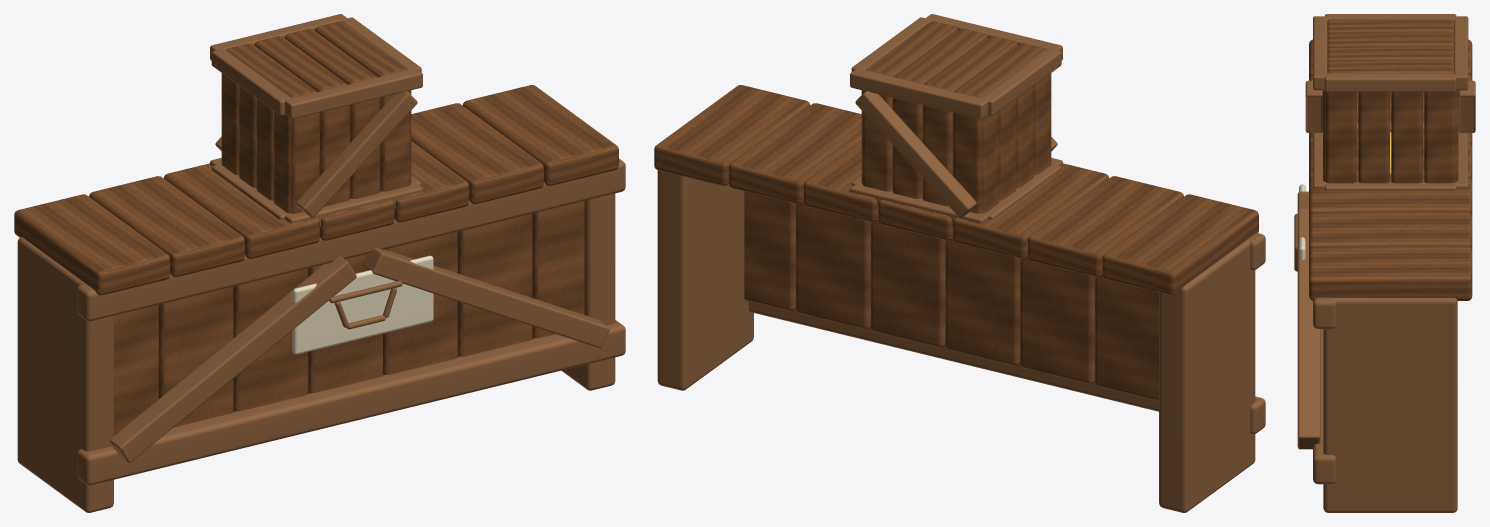
File: market-sale-props.glb
3 views of the same model, side by side, from view 1: azimuth 30°, elevation 25°; view 2: azimuth 150°, elevation 25°; view 3: azimuth 270°, elevation 25° (orthographic). The views are drawn at different scales.
Visible parts, largest first — view 1: sale-counter-post, sale-counter-rail.001, sale-counter-rail, sale-counter-plank-0, sale-counter-brace-a, sale-counter-plank-1, sale-counter-plank-6, sale-counter-plank-5, sale-front-plank-5, sale-counter-brace-b, sale-front-plank-1, sale-linen-sign (+28 smaller); view 2: sale-counter-post, sale-counter-post.001, sale-counter-plank-0, sale-front-plank-3, sale-front-plank-4, sale-front-plank-2, sale-front-plank-5, sale-counter-plank-6, sale-counter-plank-1, sale-counter-plank-5, sale-front-plank-1, sale-front-plank-6 (+23 smaller); view 3: sale-counter-post.001, sale-counter-plank-6, sale-counter-plank-5, sale-counter-brace-b, sale-counter-plank-4, sale-crate-side.007, sale-crate-side.003, sale-crate-side.005, sale-crate-side.001, sale-crate-edge.007, sale-crate-lid, sale-crate-lid.001 (+17 smaller).
Part boxes in pixels (x1,y1,x2,y2): sale-counter-post: (17,237,113,512); sale-counter-rail.001: (77,320,625,485); sale-counter-rail: (77,158,625,321); sale-counter-plank-0: (14,194,170,295); sale-counter-brace-a: (109,256,356,462); sale-counter-plank-1: (89,176,244,277); sale-counter-plank-6: (462,85,618,185); sale-counter-plank-5: (411,103,543,204); sale-front-plank-5: (458,213,532,356); sale-counter-brace-b: (362,247,609,347); sale-front-plank-1: (159,286,233,427); sale-linen-sign: (292,255,433,354); sale-counter-post: (1159,239,1255,512); sale-counter-post.001: (657,170,753,390); sale-counter-plank-0: (1102,194,1258,295); sale-front-plank-3: (945,238,1020,365); sale-front-plank-4: (871,220,945,347); sale-front-plank-2: (1020,257,1094,383); sale-front-plank-5: (796,202,870,329); sale-counter-plank-6: (654,85,810,185); sale-counter-plank-1: (1028,176,1183,277); sale-counter-plank-5: (729,103,861,204); sale-front-plank-1: (1095,275,1158,400); sale-front-plank-6: (744,191,795,310); sale-counter-post.001: (1323,298,1457,512); sale-counter-plank-6: (1309,246,1472,300); sale-counter-plank-5: (1309,212,1472,250); sale-counter-brace-b: (1297,208,1320,449); sale-counter-plank-4: (1309,177,1472,215); sale-crate-side.007: (1424,92,1455,183); sale-crate-side.003: (1358,92,1389,183); sale-crate-side.005: (1391,92,1422,183); sale-crate-side.001: (1326,92,1356,183); sale-crate-edge.007: (1324,73,1456,92); sale-crate-lid: (1327,19,1453,34); sale-crate-lid.001: (1327,33,1453,48).
Bounding box in the file's own units: 2.24 × 1.45 × 0.688.
5 materials, 1 textured.
